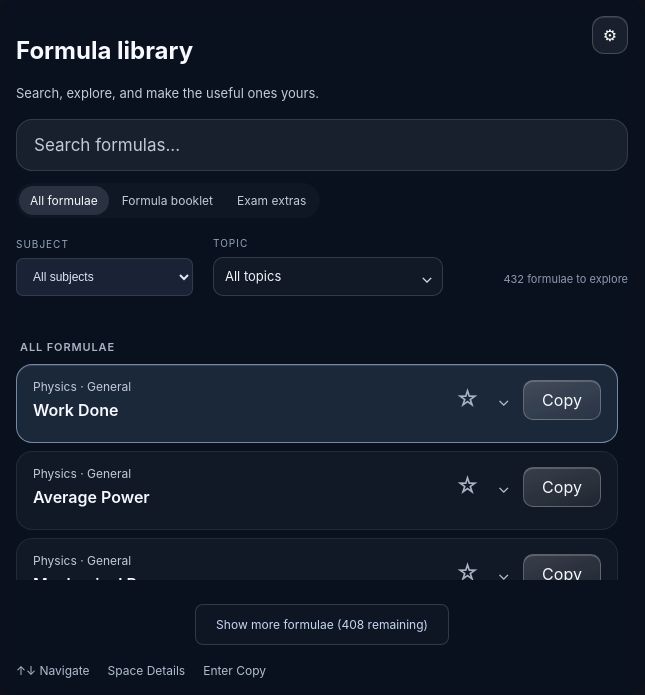
handles an invalid saved blur of garbage without breaking search
The width and height of the screenshot is (645, 695).
Click the button named "Open Settings" at (610, 35), box 592,16 -> 628,54
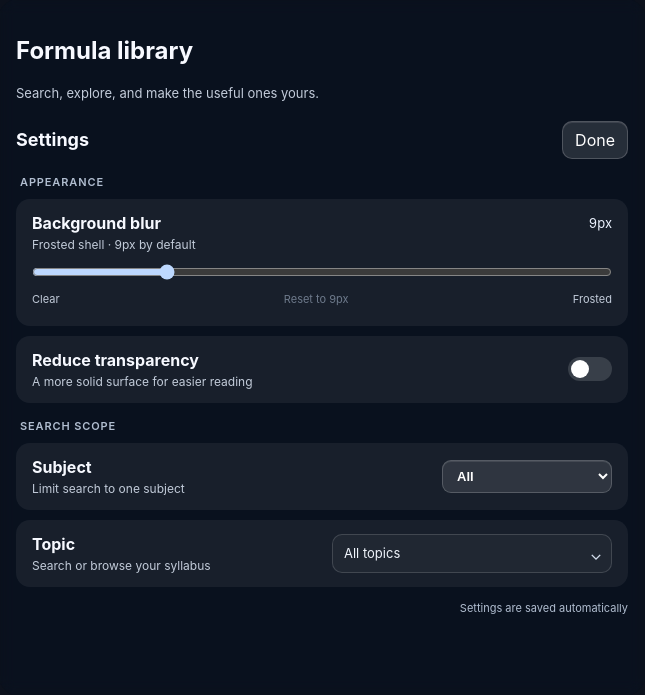
Expected: the slider holds "9", 32,264 -> 612,280
